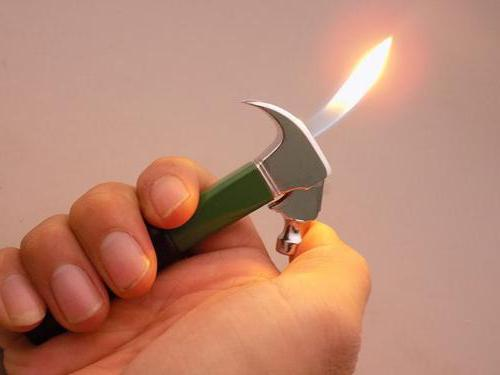fire: (305, 22, 397, 151)
